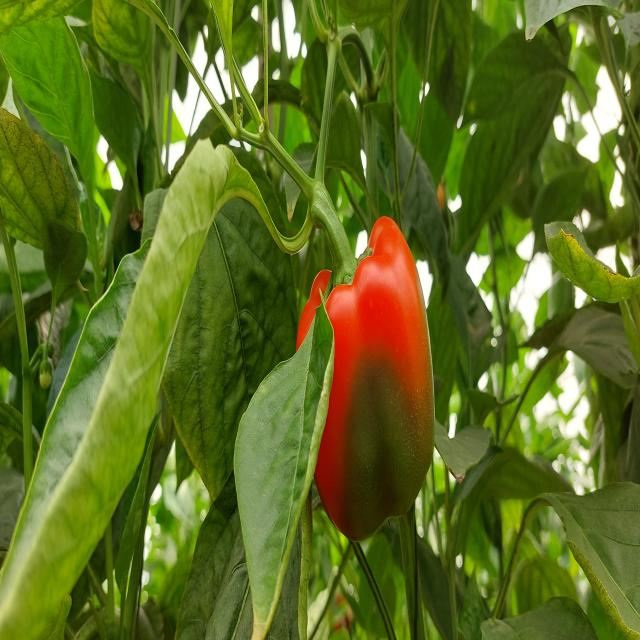Red-Ready-to-Harvest: (287, 226, 449, 539)
